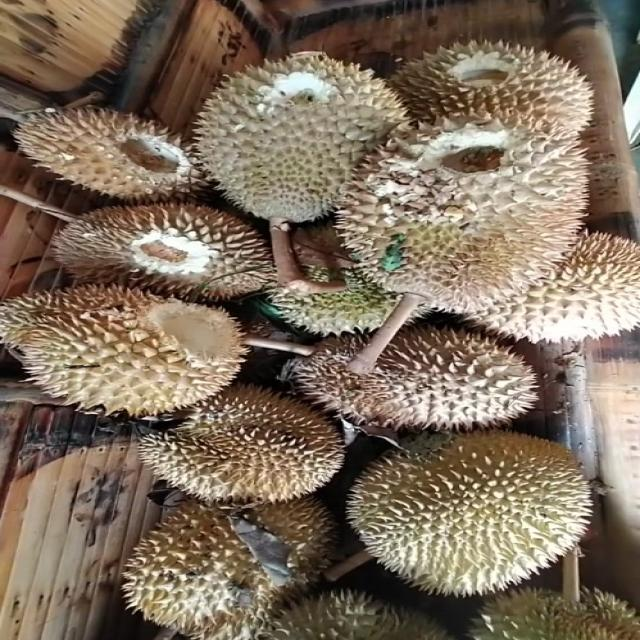defective: (338, 114, 586, 311), (183, 45, 408, 236), (2, 286, 254, 426), (375, 36, 600, 171), (37, 194, 294, 308), (7, 102, 228, 208)
immature: (335, 426, 601, 598)
mature: (103, 490, 334, 627), (265, 321, 557, 429), (136, 379, 343, 512)
